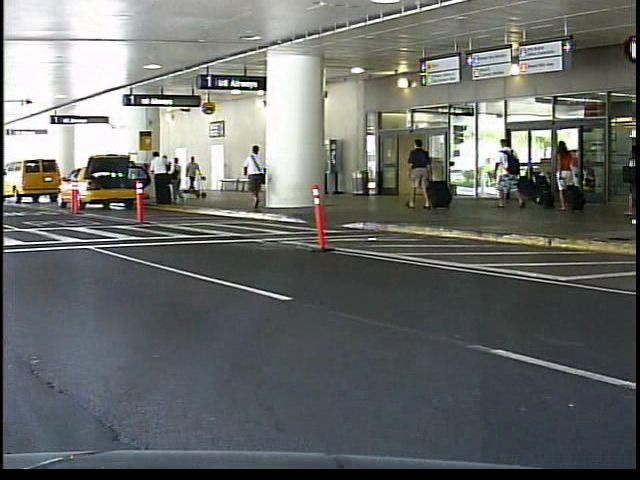person: (492, 133, 529, 213), (552, 134, 584, 221), (241, 142, 272, 215), (405, 136, 433, 213), (185, 154, 203, 198)
